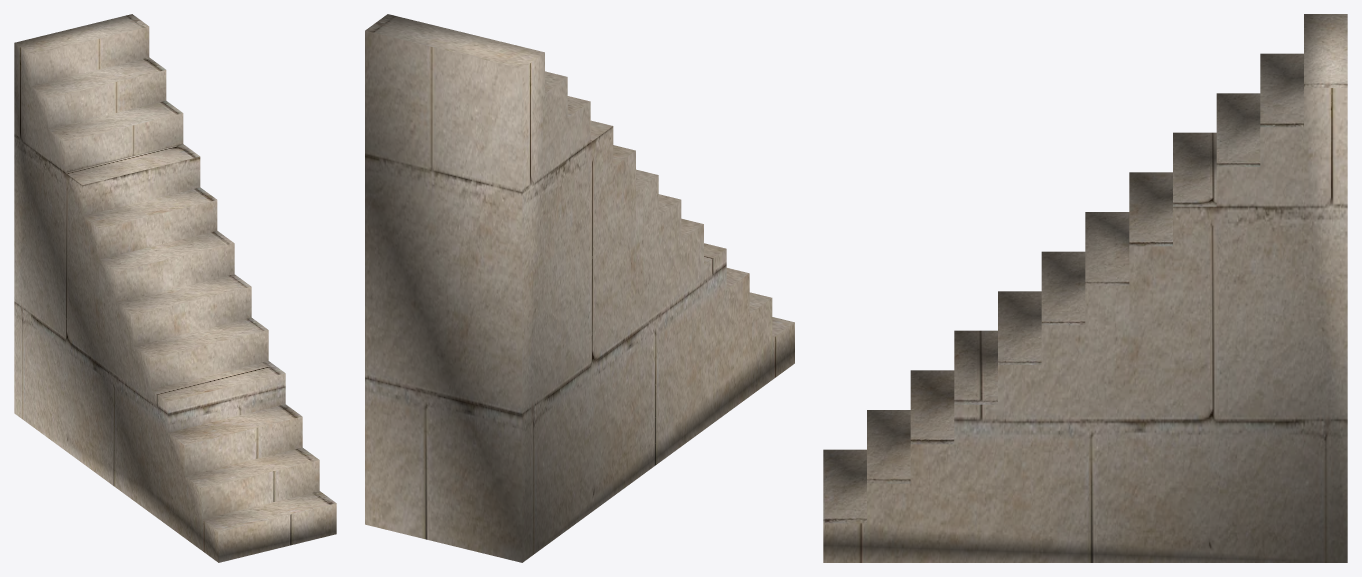
Rendered from limestone stairs.glb.
3 views of the same model, side by side, from view 1: azimuth 30°, elevation 25°; view 2: azimuth 150°, elevation 25°; view 3: azimuth 270°, elevation 25° (orthographic). The views are drawn at different scales.
Parts seen in each view (by area): view 1: Steps.002; view 2: Steps.002; view 3: Steps.002.
Part boxes in pixels (x1,y1,x2,y2): Steps.002: (14, 14, 336, 562); Steps.002: (365, 14, 794, 562); Steps.002: (823, 14, 1347, 562).
Bounding box in the file's own units: 0.9144 × 2.74 × 2.74.
Materials: 1 (1 with a texture image).
